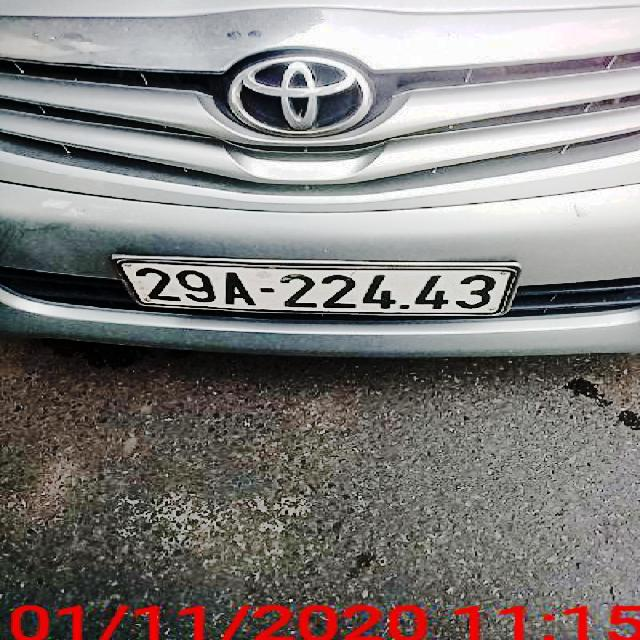license_plate: (118, 260, 518, 312)
